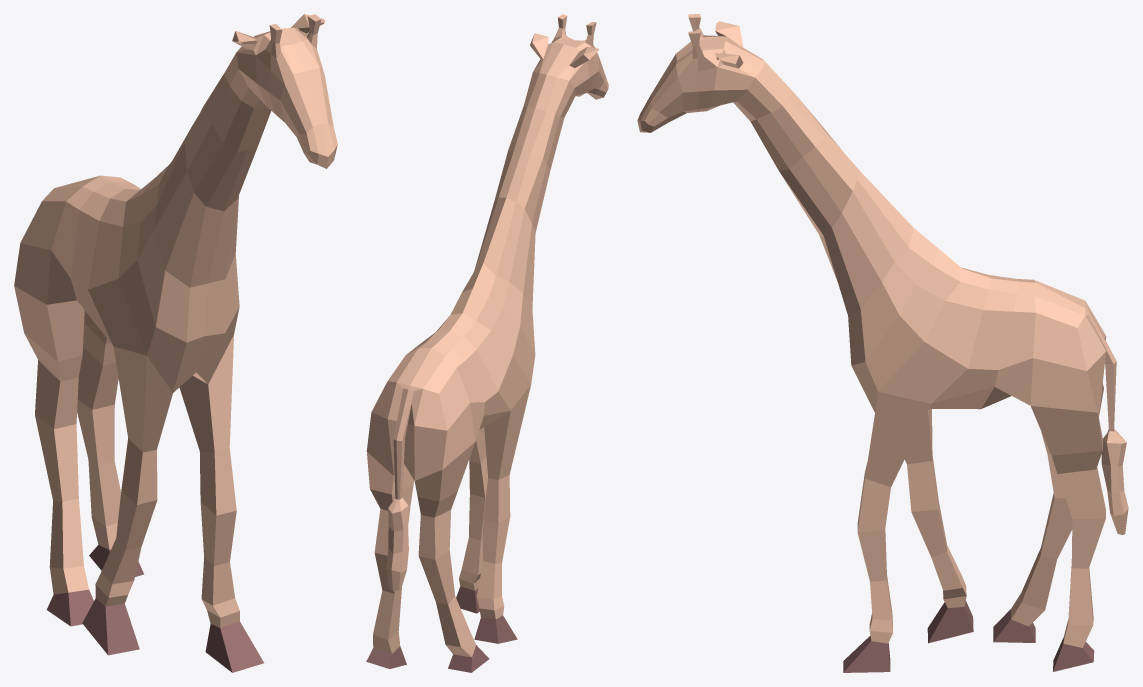
The model's file is Giraffe3.fbx.
3 renders of one model, left to right at view 1: azimuth 30°, elevation 25°; view 2: azimuth 150°, elevation 25°; view 3: azimuth 270°, elevation 25°, orthographic. The views are drawn at different scales.
Parts seen in each view (by area): view 1: Giraffe.003; view 2: Giraffe.003; view 3: Giraffe.003.
Part boxes in pixels (bbox=[...]): Giraffe.003: bbox=[14, 14, 337, 672]; Giraffe.003: bbox=[366, 14, 608, 672]; Giraffe.003: bbox=[637, 14, 1128, 672].
Size of the model in its own units: 0.4784 by 2.92 by 2.07.
